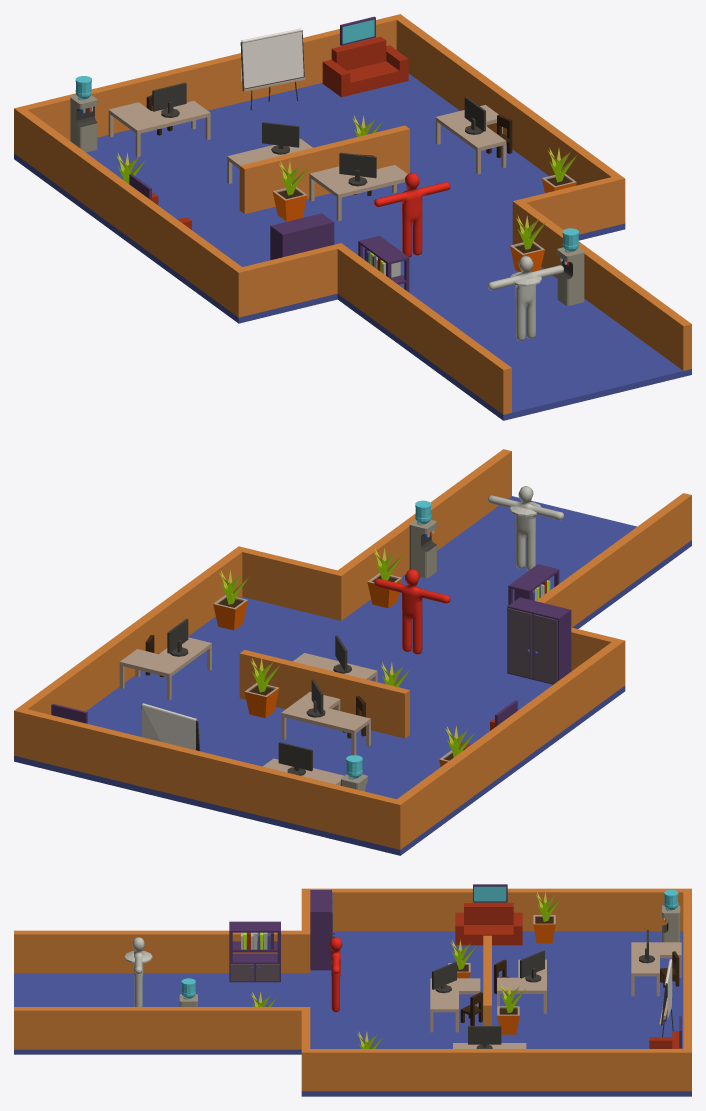
Rendered from office_0.1.fbx.
3 renders of one model, top to bottom at view 1: azimuth 30°, elevation 25°; view 2: azimuth 150°, elevation 25°; view 3: azimuth 270°, elevation 25°, orthographic. The views are drawn at different scales.
Visible parts, largest first — view 1: room 2, room 1, wall, sofa.001, blackboard.001, monitor.001, table, table.001, wardrobe 1, stickman.001, stickman, table.002 (+6 smaller); view 2: room 2, room 1, wall, wardrobe 1, table.001, table.002, stickman.001, blackboard.001, stickman, cooler, monitor.001, wardrobe 2 (+5 smaller); view 3: room 2, room 1, sofa, wardrobe 2, table, monitor.001, wardrobe 1, table.002, table.001, cooler.001, flower.003, flower.002 (+7 smaller).
Part boxes in pixels (left/top/right/bottom): room 2: left=14, top=14, right=625, bottom=323; room 1: left=337, top=203, right=691, bottom=420; wall: left=239, top=125, right=409, bottom=213; sofa.001: left=322, top=16, right=408, bottom=97; blackboard.001: left=240, top=28, right=305, bottom=110; monitor.001: left=108, top=82, right=210, bottom=156; table: left=309, top=152, right=408, bottom=220; table.001: left=435, top=97, right=512, bottom=174; wardrobe 1: left=270, top=213, right=334, bottom=260; stickman.001: left=374, top=172, right=450, bottom=257; stickman: left=488, top=256, right=563, bottom=341; table.002: left=227, top=122, right=312, bottom=183; room 2: left=14, top=546, right=625, bottom=855; room 1: left=332, top=449, right=691, bottom=656; wall: left=239, top=650, right=409, bottom=738; wardrobe 1: left=507, top=597, right=571, bottom=684; table.001: left=119, top=619, right=211, bottom=700; table.002: left=281, top=679, right=370, bottom=755; stickman.001: left=374, top=569, right=450, bottom=654; blackboard.001: left=141, top=703, right=200, bottom=751; stickman: left=488, top=486, right=563, bottom=570; cooler: left=409, top=500, right=436, bottom=578; monitor.001: left=263, top=742, right=344, bottom=785; wardrobe 2: left=508, top=564, right=559, bottom=605; room 2: left=301, top=888, right=691, bottom=1096; room 1: left=14, top=930, right=310, bottom=1054; sofa: left=455, top=884, right=522, bottom=945; wardrobe 2: left=229, top=921, right=280, bottom=982; table: left=430, top=962, right=482, bottom=1032; monitor.001: left=631, top=929, right=681, bottom=996; wardrobe 1: left=310, top=890, right=334, bottom=970; table.002: left=494, top=950, right=546, bottom=1013; table.001: left=453, top=1026, right=526, bottom=1048; cooler.001: left=662, top=890, right=680, bottom=942; flower.003: left=533, top=892, right=560, bottom=943; flower.002: left=497, top=983, right=525, bottom=1034.
Size of the model in its own units: 902 by 198 by 1579.
